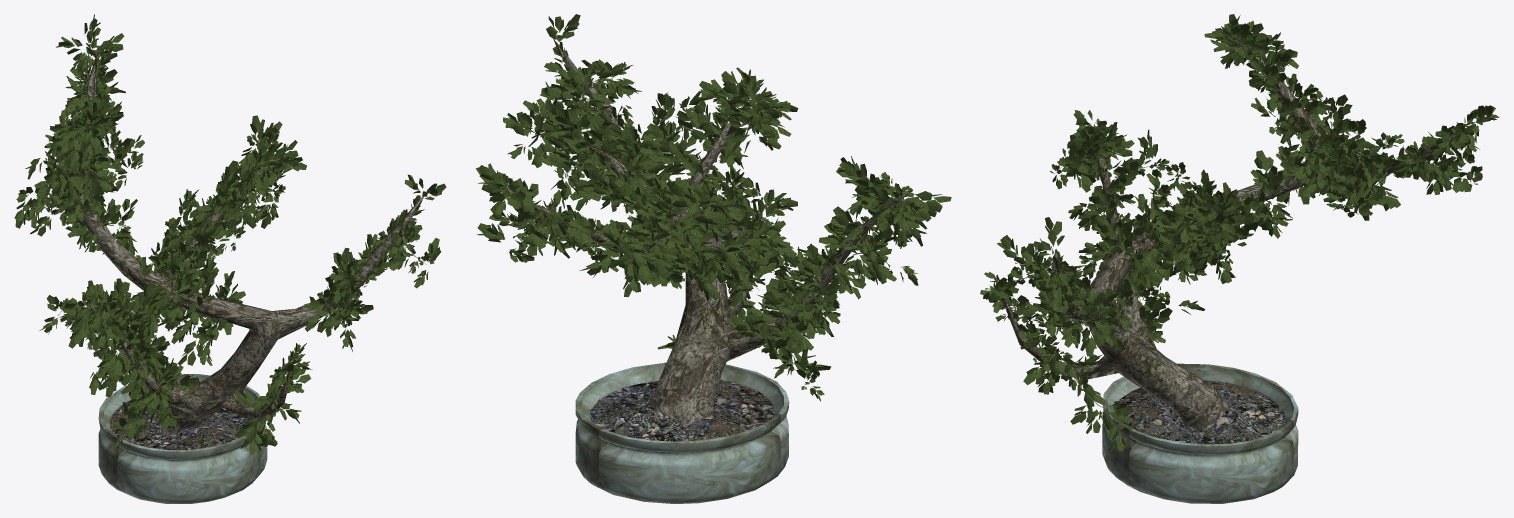
3 views of the same model, side by side, from view 1: azimuth 30°, elevation 25°; view 2: azimuth 150°, elevation 25°; view 3: azimuth 270°, elevation 25° (orthographic). The views are drawn at different scales.
Visible parts, largest first — view 1: Obj3d66_635620_21_454, Obj3d66_635620_18_587, Obj3d66_635620_19_754, Obj3d66_635620_20_558; view 2: Obj3d66_635620_21_454, Obj3d66_635620_19_754, Obj3d66_635620_18_587, Obj3d66_635620_20_558; view 3: Obj3d66_635620_21_454, Obj3d66_635620_19_754, Obj3d66_635620_18_587, Obj3d66_635620_20_558.
Part boxes in pixels (x1=…): Obj3d66_635620_21_454: x1=14, y1=14, x2=446, y2=456; Obj3d66_635620_18_587: x1=51, y1=52, x2=426, y2=433; Obj3d66_635620_19_754: x1=98, y1=374, x2=267, y2=503; Obj3d66_635620_20_558: x1=110, y1=400, x2=248, y2=449; Obj3d66_635620_21_454: x1=475, y1=14, x2=951, y2=401; Obj3d66_635620_19_754: x1=575, y1=362, x2=789, y2=503; Obj3d66_635620_18_587: x1=505, y1=38, x2=906, y2=422; Obj3d66_635620_20_558: x1=590, y1=380, x2=774, y2=441; Obj3d66_635620_21_454: x1=980, y1=14, x2=1499, y2=451; Obj3d66_635620_19_754: x1=1102, y1=363, x2=1298, y2=503; Obj3d66_635620_18_587: x1=1001, y1=37, x2=1461, y2=428; Obj3d66_635620_20_558: x1=1118, y1=380, x2=1285, y2=444.
Bounding box in the file's own units: 11408 × 10905 × 12423.
4 materials, 4 textured.
